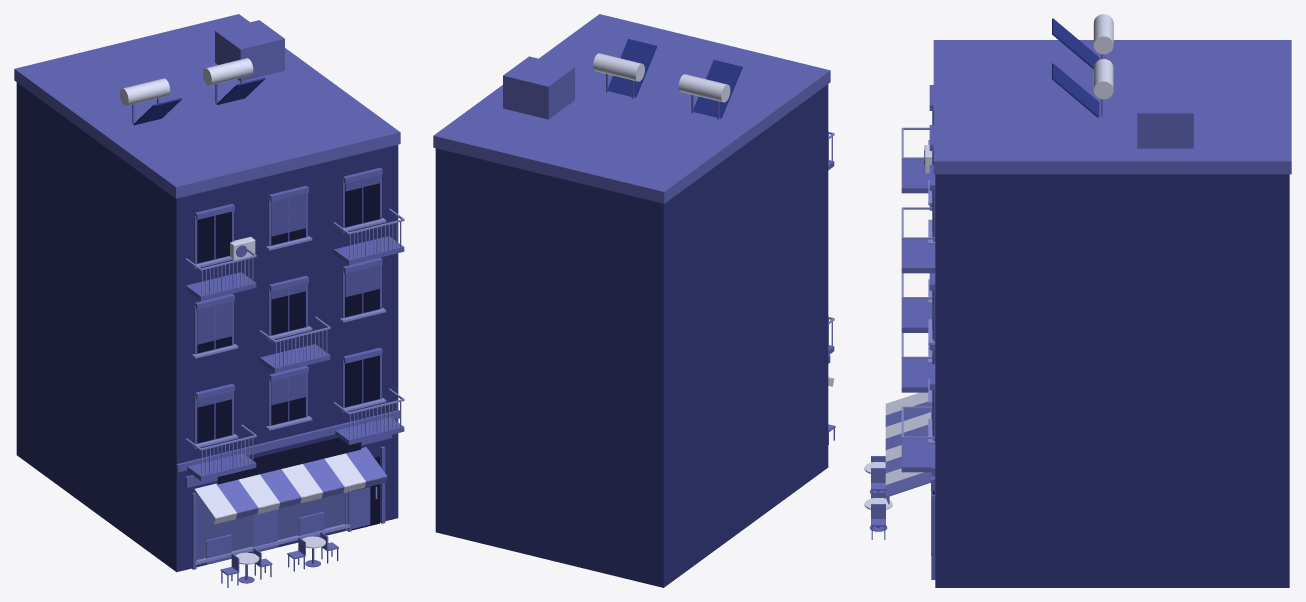
Rendered from cafe.glb.
3 renders of one model, left to right at view 1: azimuth 30°, elevation 25°; view 2: azimuth 150°, elevation 25°; view 3: azimuth 270°, elevation 25°, orthographic. The views are drawn at different scales.
Parts seen in each view (by area): view 1: body, roof, glass (×7), awningCloth, slab (×5), shop, shutter (×4), shopWindow, roofBox, sign, tank (×2), band0 (+6 smaller); view 2: body, roof, roofBox, panel (×2), tank (×2); view 3: body, roof, slab (×5), roofBox, awningCloth, panel (×2), tank (×2).
Boxes of the visible parts, bbox=[...] form: body: bbox=[16, 82, 398, 572]; roof: bbox=[14, 14, 400, 198]; glass (×7): bbox=[197, 183, 379, 443]; awningCloth: bbox=[194, 447, 387, 524]; slab (×5): bbox=[186, 236, 404, 480]; shop: bbox=[191, 446, 385, 569]; shutter (×4): bbox=[197, 193, 380, 405]; shopWindow: bbox=[197, 493, 344, 560]; roofBox: bbox=[215, 20, 284, 80]; sign: bbox=[217, 437, 361, 484]; tank (×2): bbox=[119, 58, 253, 105]; band0: bbox=[176, 410, 399, 472]; body: bbox=[435, 84, 828, 587]; roof: bbox=[433, 14, 830, 203]; roofBox: bbox=[503, 56, 574, 119]; panel (×2): bbox=[608, 39, 742, 118]; tank (×2): bbox=[593, 53, 730, 102]; body: bbox=[935, 174, 1289, 587]; roof: bbox=[933, 40, 1291, 174]; slab (×5): bbox=[901, 159, 935, 472]; roofBox: bbox=[1137, 89, 1193, 148]; awningCloth: bbox=[885, 392, 930, 504]; panel (×2): bbox=[1052, 18, 1099, 117]; tank (×2): bbox=[1093, 14, 1113, 99].
Size of the model in its own units: 8.1 by 14.53 by 12.05.
